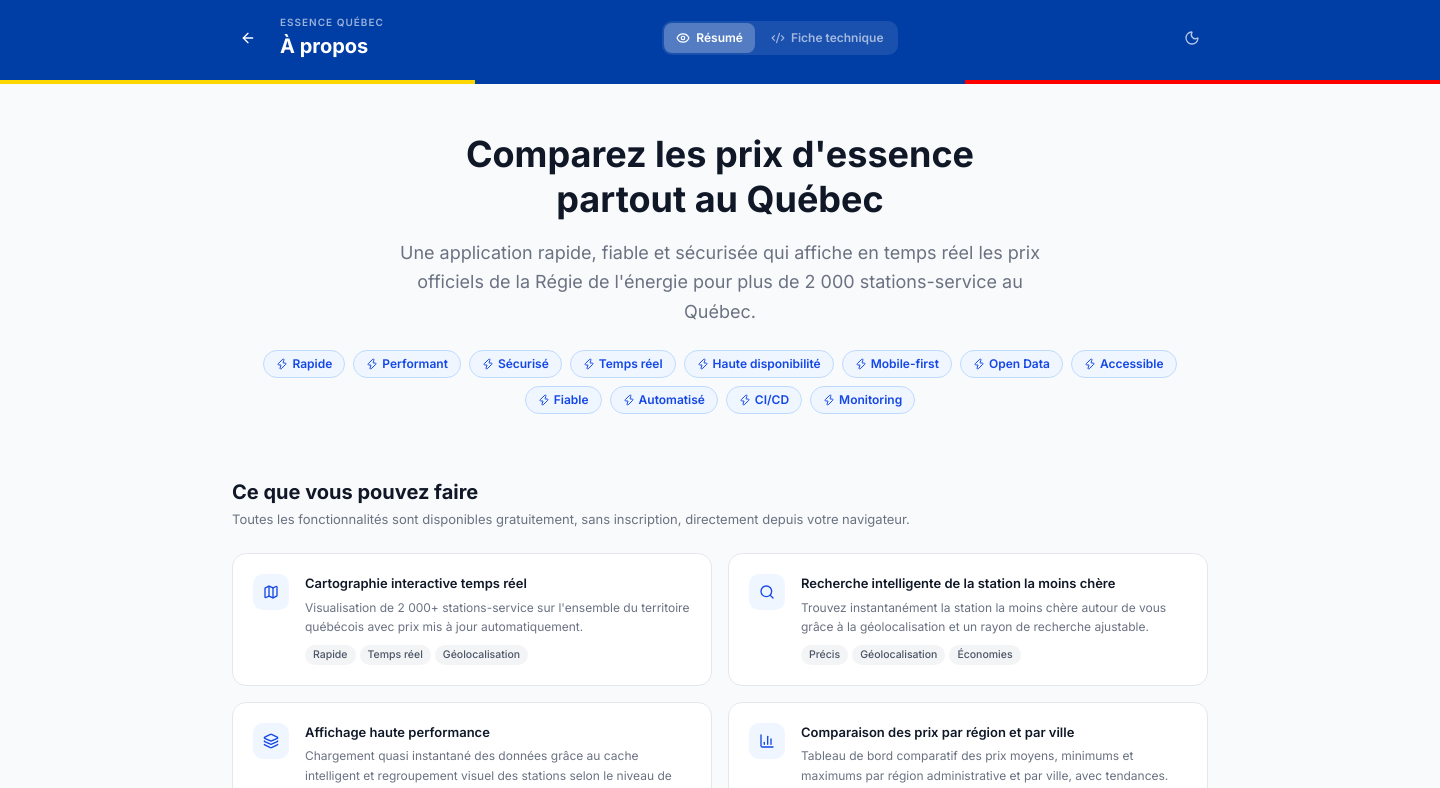
Test: TechPage › switch vers le mode détaillé quand on clique sur Fiche technique
Click the button "Fiche technique" at (827, 38), box [759,22,896,52]
(page scrolled)
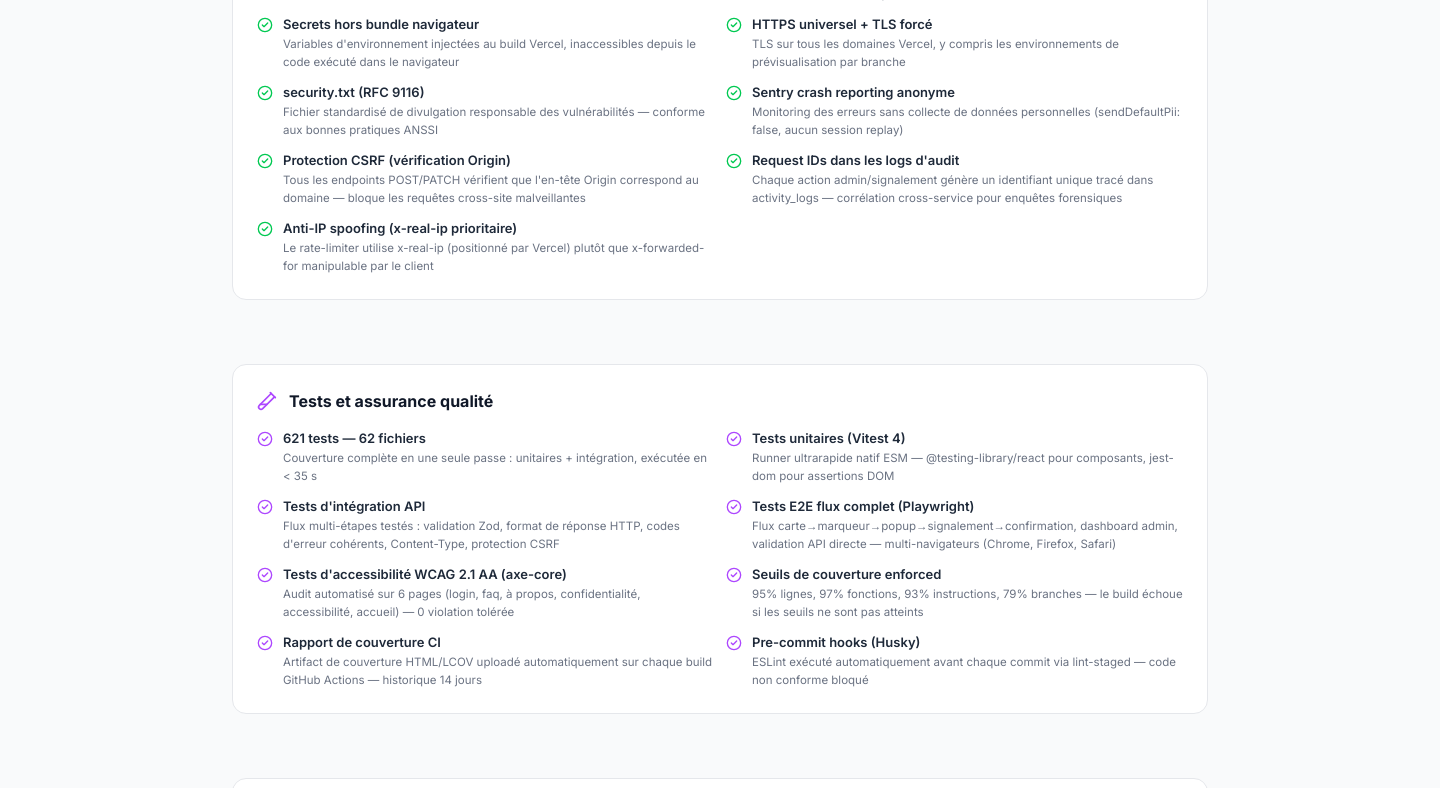
Expected: the heading "Tests et assurance qualité" is shown, [289,389,493,413]
